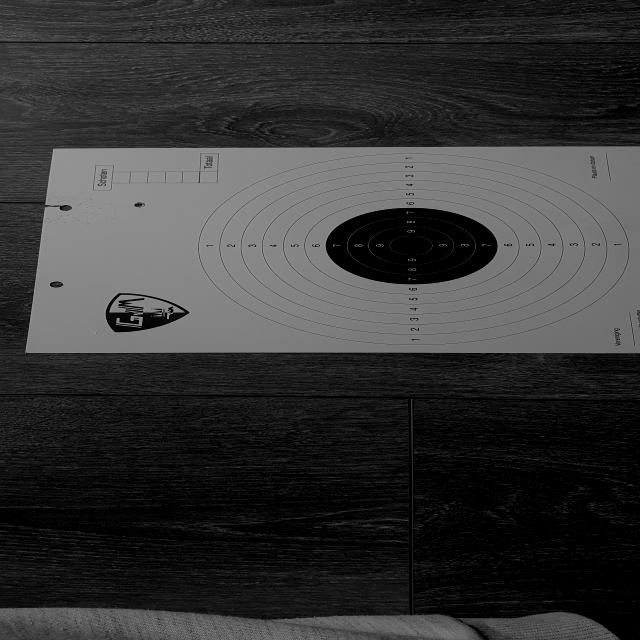0: (132, 201, 148, 209)
Target: (198, 153, 630, 346)
black_contour: (326, 208, 498, 284)
